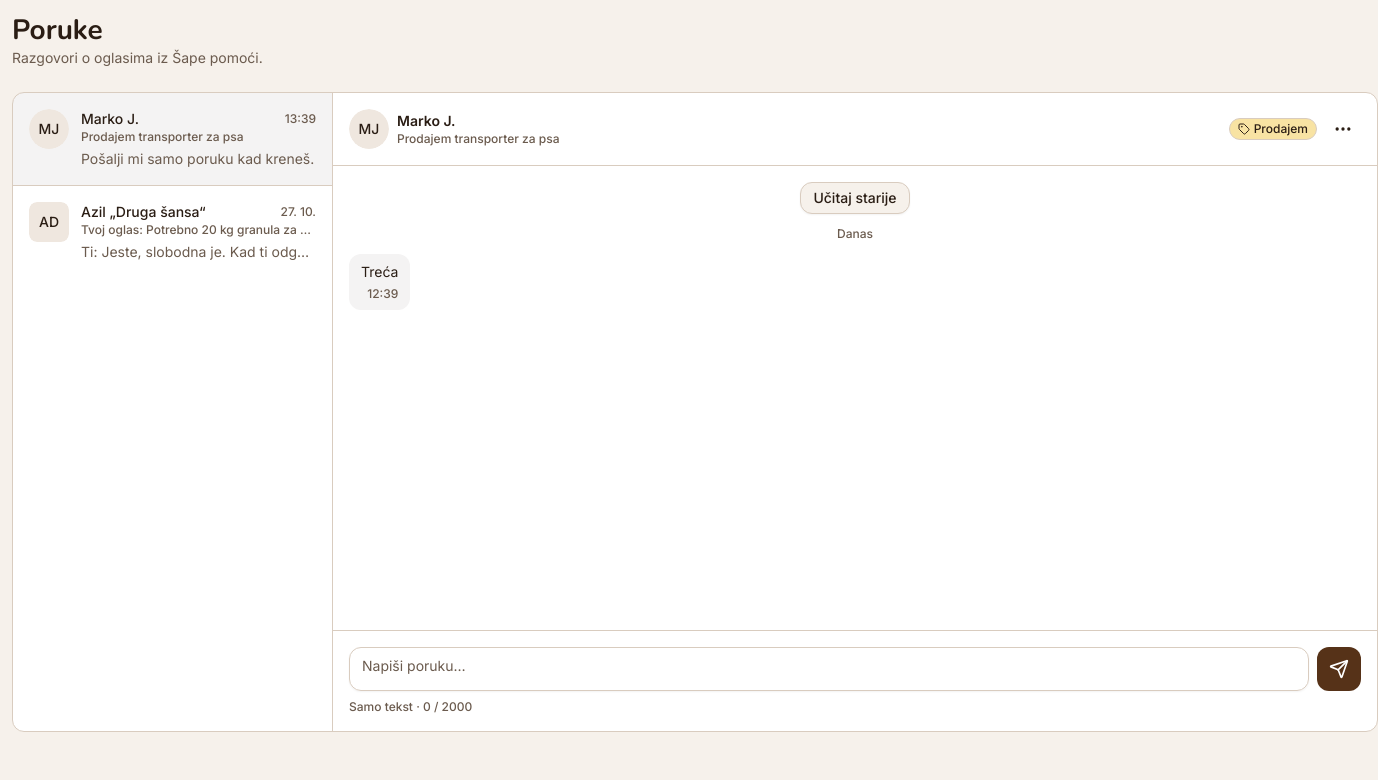
FR-68 #6 — thread › Učitaj starije loads the previous page
The width and height of the screenshot is (1378, 780).
Click the button "Učitaj starije" at coordinates (855, 198), box left=800, top=182, right=910, bottom=214
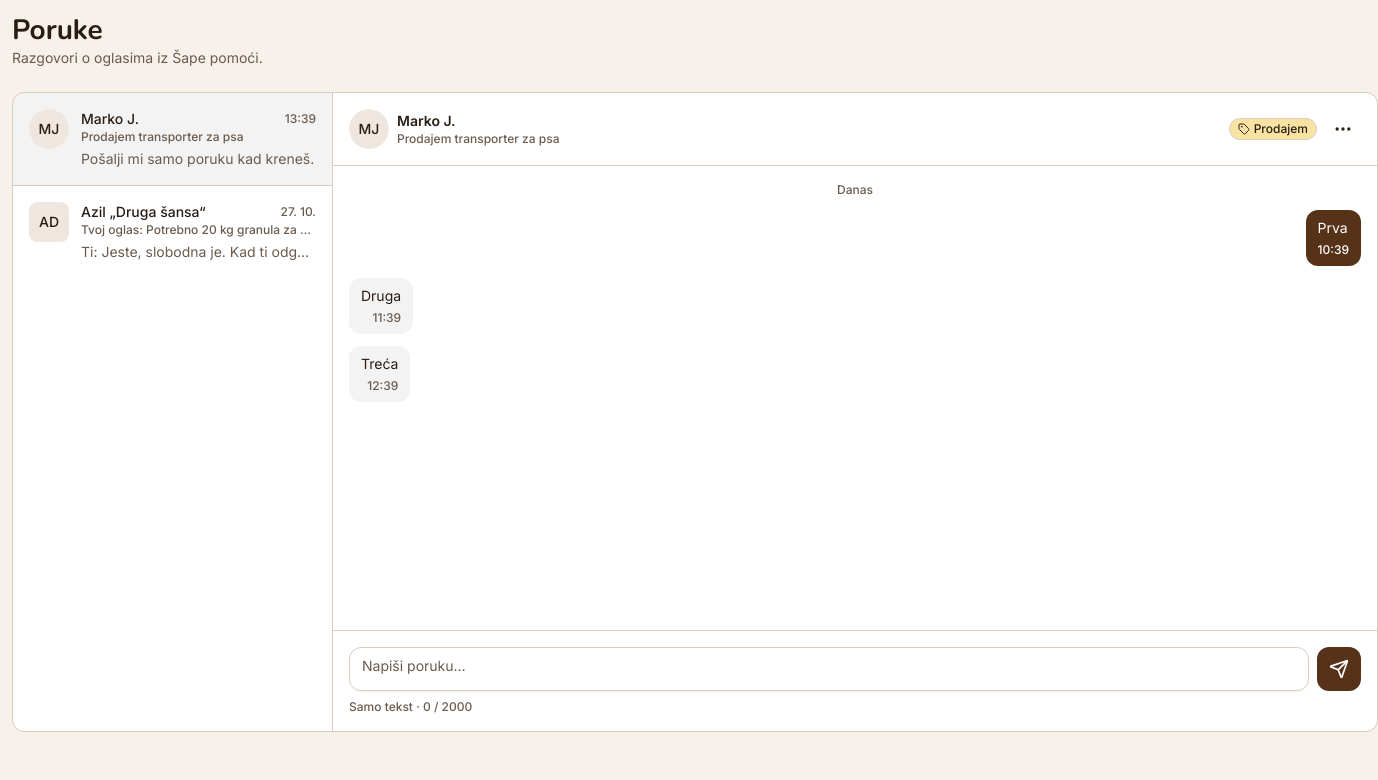
Expected: the button "Učitaj starije" is gone
